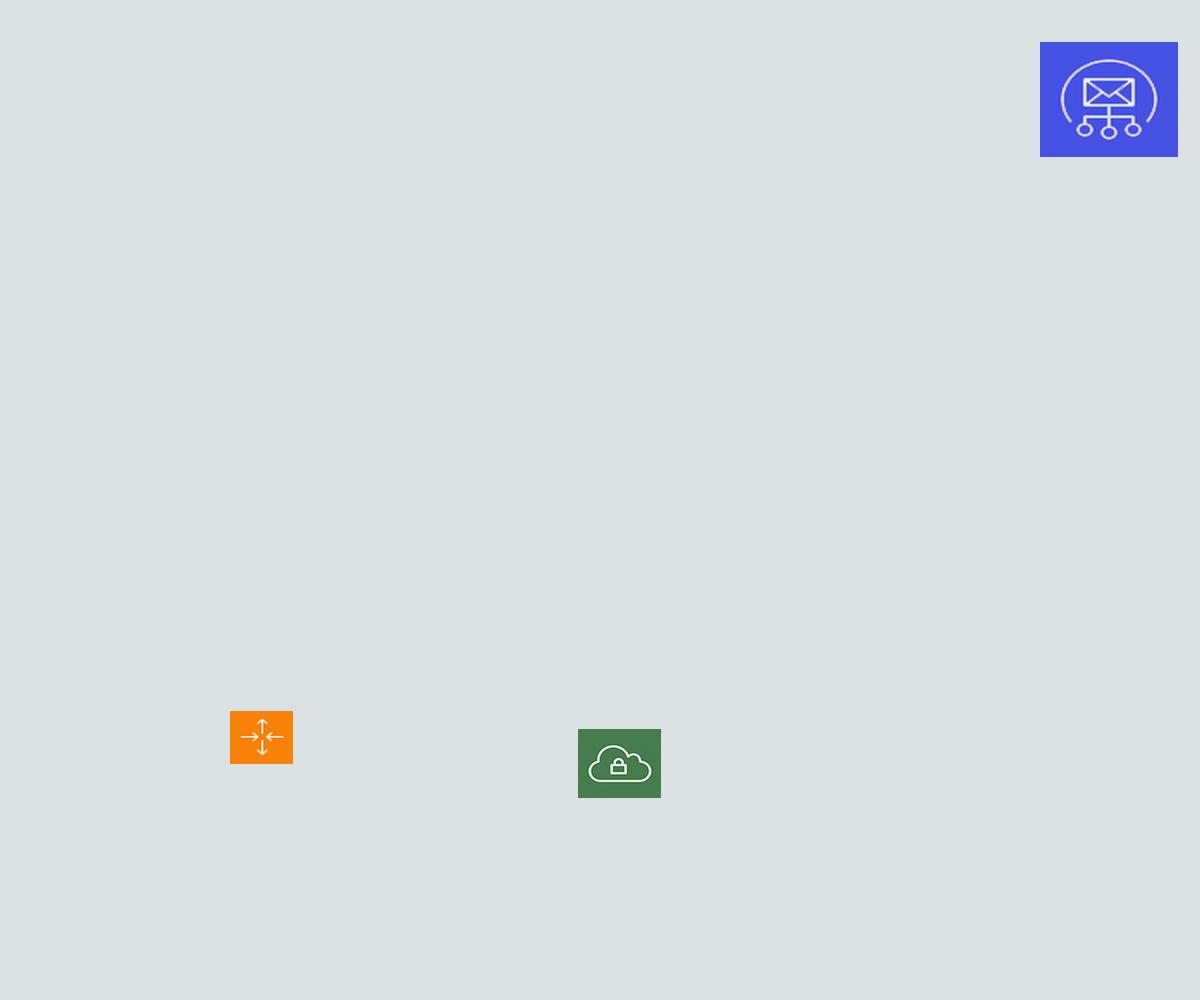AWS-Private_vpc: (578, 729, 661, 798)
AWS-Scaling-group: (230, 711, 293, 764)
AWS-Simple-Email-Service: (1040, 42, 1178, 157)
